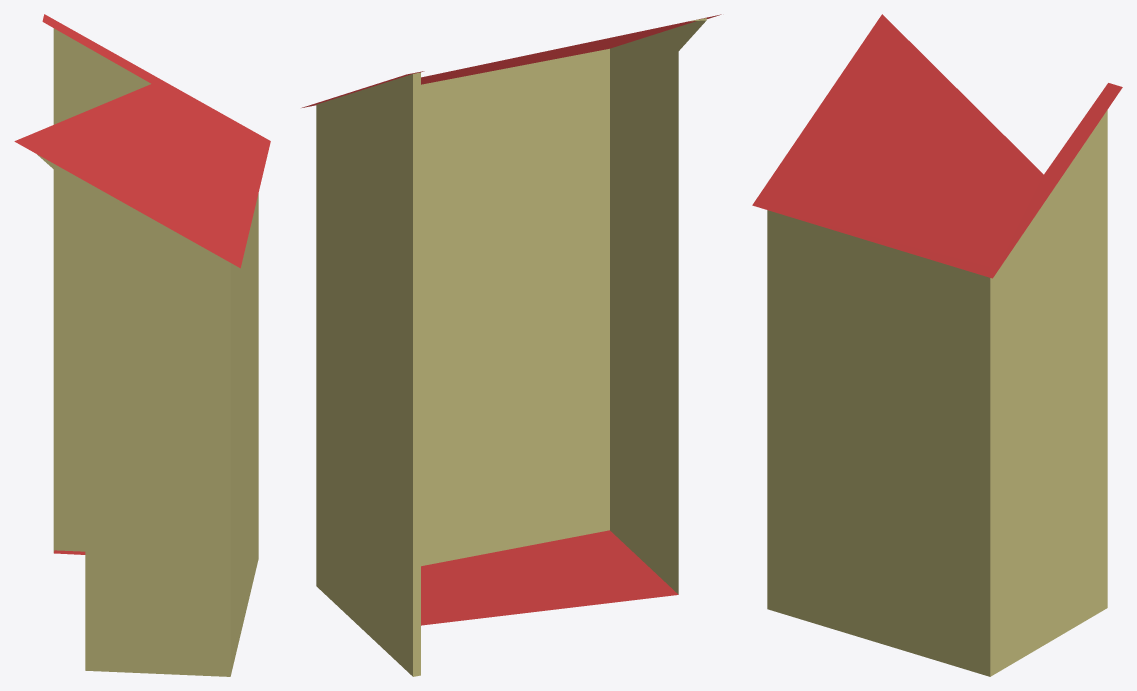
3 views of the same model, side by side, from view 1: azimuth 30°, elevation 25°; view 2: azimuth 150°, elevation 25°; view 3: azimuth 270°, elevation 25° (orthographic). The views are drawn at different scales.
Bounding box in the file's own units: 8.04 × 8.42 × 13.03.
